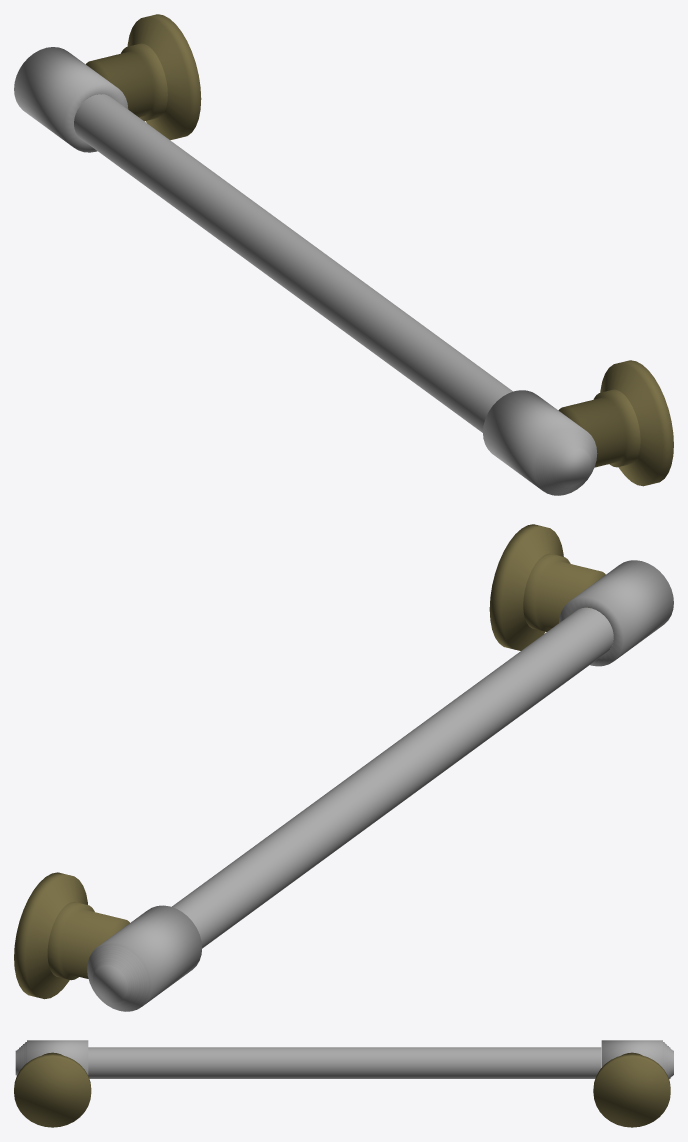
File: towel_holder.fbx
3 renders of one model, top to bottom at view 1: azimuth 30°, elevation 25°; view 2: azimuth 150°, elevation 25°; view 3: azimuth 270°, elevation 25°, orthographic. The views are drawn at different scales.
Visible parts, largest first — view 1: Cylinder.001, Cylinder.003, Cylinder; view 2: Cylinder.001, Cylinder, Cylinder.003; view 3: Cylinder.001, Cylinder.003, Cylinder.
Boxes of the visible parts, <box> form: Cylinder.001: <box>14,47,597,495</box>; Cylinder.003: <box>558,360,673,486</box>; Cylinder: <box>86,14,201,140</box>; Cylinder.001: <box>87,560,673,1011</box>; Cylinder: <box>14,872,129,999</box>; Cylinder.003: <box>489,524,605,650</box>; Cylinder.001: <box>15,1040,673,1079</box>; Cylinder.003: <box>14,1052,91,1127</box>; Cylinder: <box>593,1052,670,1127</box>.
Size of the model in its own units: 191 by 160 by 1363.
